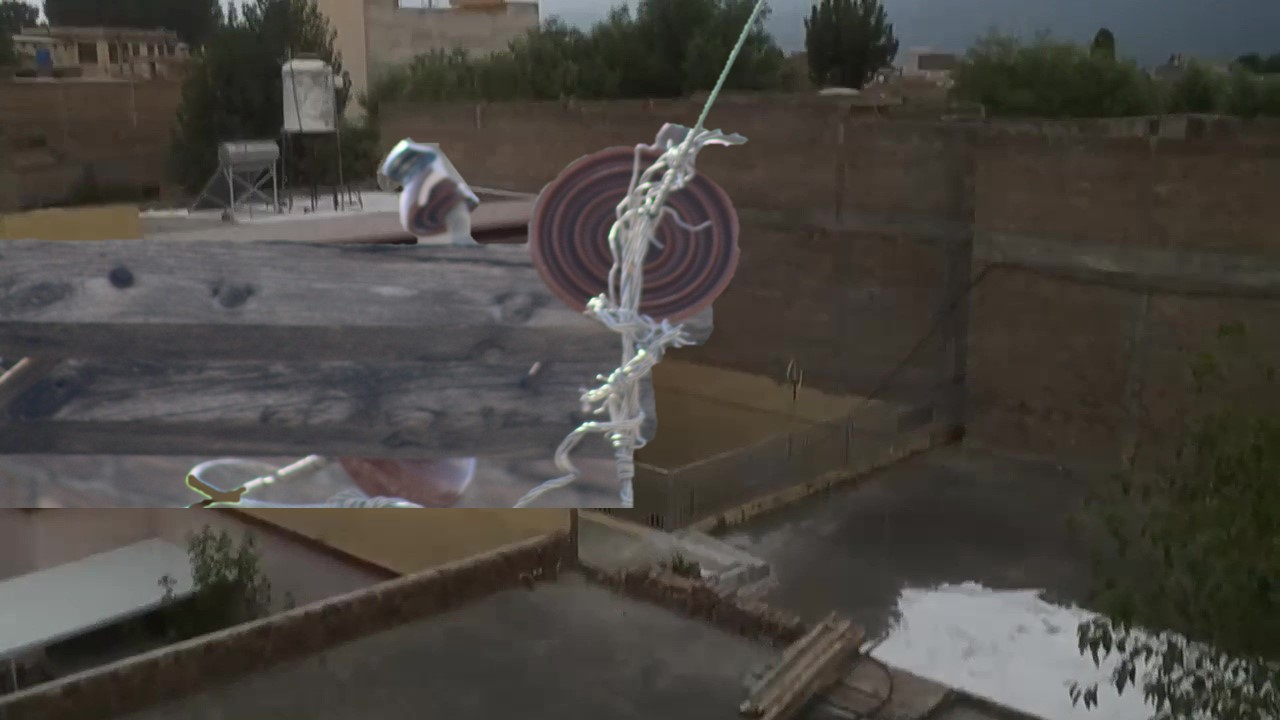defect_pin: (374, 130, 486, 249)
insulator_disc: (529, 132, 750, 327)
